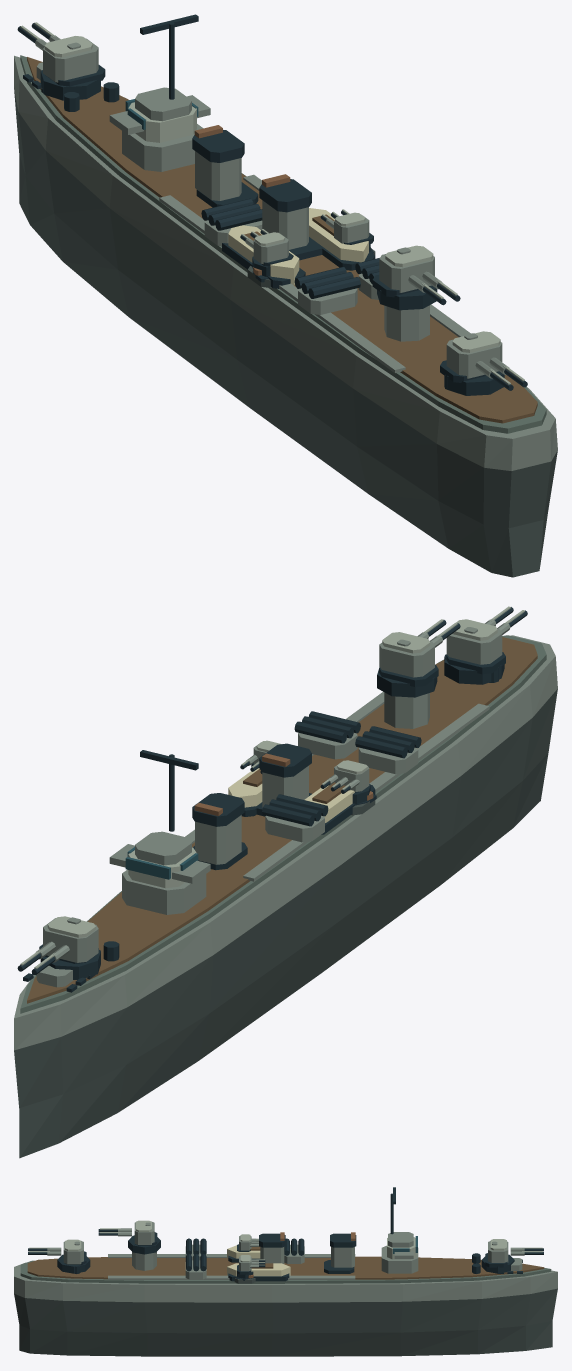
File: historic-fubuki.glb
3 views of the same model, one above another, from view 1: azimuth 30°, elevation 25°; view 2: azimuth 150°, elevation 25°; view 3: azimuth 270°, elevation 25° (orthographic). The views are drawn at different scales.
Parts seen in each view (by area): view 1: historic-fubuki-historic-fubuki-geometry, historic-fubuki-part_bridge.027-geometry, historic-fubuki-turret_main_0.020-geometry, historic-fubuki-historic_funnel_0.028-geometry, historic-fubuki-turret_main_1.019-geometry, historic-fubuki-turret_main_2.019-geometry, historic-fubuki-historic_funnel_1.014-geometry, historic-fubuki-torpedo_bank_0.004-geometry, historic-fubuki-torpedo_bank_2.001-geometry, historic-fubuki-turret_aa_aa-port.029-geometry, historic-fubuki-turret_aa_aa-starboard.027-geometry, historic-fubuki-torpedo_bank_1.003-geometry; view 2: historic-fubuki-historic-fubuki-geometry, historic-fubuki-part_bridge.027-geometry, historic-fubuki-turret_main_1.019-geometry, historic-fubuki-turret_main_2.019-geometry, historic-fubuki-historic_funnel_0.028-geometry, historic-fubuki-turret_main_0.020-geometry, historic-fubuki-historic_funnel_1.014-geometry, historic-fubuki-torpedo_bank_2.001-geometry, historic-fubuki-torpedo_bank_0.004-geometry, historic-fubuki-torpedo_bank_1.003-geometry, historic-fubuki-turret_aa_aa-port.029-geometry; view 3: historic-fubuki-historic-fubuki-geometry, historic-fubuki-part_bridge.027-geometry, historic-fubuki-turret_main_1.019-geometry, historic-fubuki-turret_main_0.020-geometry, historic-fubuki-turret_main_2.019-geometry, historic-fubuki-historic_funnel_0.028-geometry, historic-fubuki-historic_funnel_1.014-geometry, historic-fubuki-torpedo_bank_1.003-geometry, historic-fubuki-torpedo_bank_2.001-geometry, historic-fubuki-turret_aa_aa-starboard.027-geometry, historic-fubuki-torpedo_bank_0.004-geometry, historic-fubuki-turret_aa_aa-port.029-geometry.
Boxes of the visible parts, x1,y1,x2,y2 form: historic-fubuki-historic-fubuki-geometry: (14,55,557,577); historic-fubuki-part_bridge.027-geometry: (109,14,210,171); historic-fubuki-turret_main_0.020-geometry: (17,22,105,100); historic-fubuki-historic_funnel_0.028-geometry: (192,125,258,207); historic-fubuki-turret_main_1.019-geometry: (372,245,460,310); historic-fubuki-turret_main_2.019-geometry: (440,331,527,395); historic-fubuki-historic_funnel_1.014-geometry: (259,174,322,260); historic-fubuki-torpedo_bank_0.004-geometry: (294,267,360,314); historic-fubuki-torpedo_bank_2.001-geometry: (201,198,262,246); historic-fubuki-turret_aa_aa-port.029-geometry: (240,229,293,276); historic-fubuki-turret_aa_aa-starboard.027-geometry: (320,209,373,251); historic-fubuki-torpedo_bank_1.003-geometry: (355,258,379,299); historic-fubuki-historic-fubuki-geometry: (14,635,557,1158); historic-fubuki-part_bridge.027-geometry: (109,750,210,914); historic-fubuki-turret_main_1.019-geometry: (377,619,460,697); historic-fubuki-turret_main_2.019-geometry: (444,606,527,684); historic-fubuki-historic_funnel_0.028-geometry: (192,793,247,870); historic-fubuki-turret_main_0.020-geometry: (17,916,100,979); historic-fubuki-historic_funnel_1.014-geometry: (256,743,311,816); historic-fubuki-torpedo_bank_2.001-geometry: (262,794,328,842); historic-fubuki-torpedo_bank_0.004-geometry: (355,726,421,774); historic-fubuki-torpedo_bank_1.003-geometry: (294,711,360,759); historic-fubuki-turret_aa_aa-port.029-geometry: (320,760,370,804); historic-fubuki-historic-fubuki-geometry: (14,1245,557,1356); historic-fubuki-part_bridge.027-geometry: (381,1187,418,1273); historic-fubuki-turret_main_1.019-geometry: (98,1220,160,1254); historic-fubuki-turret_main_0.020-geometry: (481,1239,543,1273); historic-fubuki-turret_main_2.019-geometry: (28,1239,90,1273); historic-fubuki-historic_funnel_0.028-geometry: (324,1232,356,1273); historic-fubuki-historic_funnel_1.014-geometry: (259,1232,285,1263); historic-fubuki-torpedo_bank_1.003-geometry: (185,1254,206,1279); historic-fubuki-torpedo_bank_2.001-geometry: (284,1238,304,1263); historic-fubuki-turret_aa_aa-starboard.027-geometry: (237,1255,265,1278); historic-fubuki-torpedo_bank_0.004-geometry: (185,1238,206,1261); historic-fubuki-turret_aa_aa-port.029-geometry: (237,1234,259,1251).
Size of the model in its own units: 0.5342 by 1.28 by 4.11.
